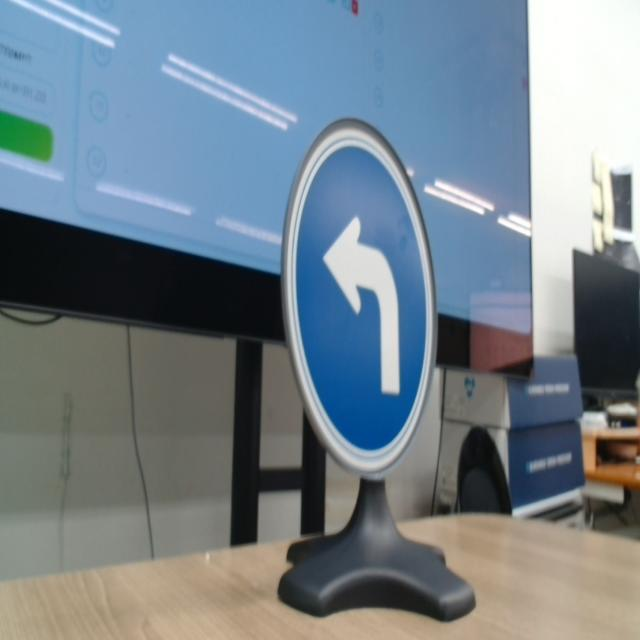left_direction: (272, 94, 456, 488)
